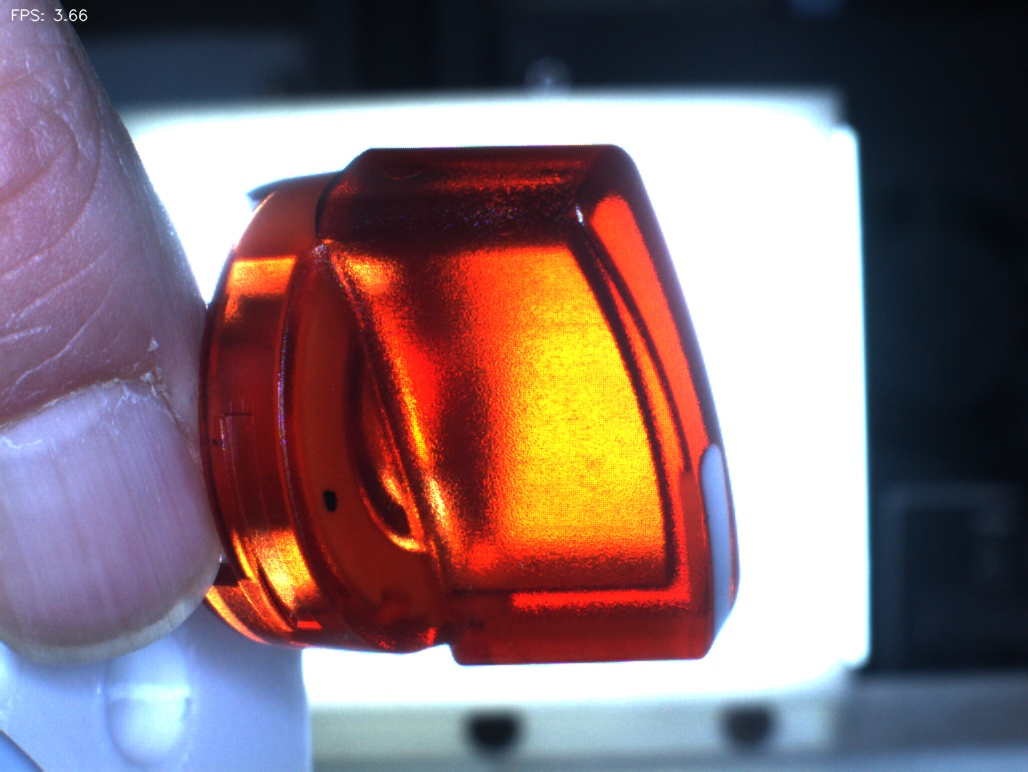PointNoir: (295, 460, 365, 550)
